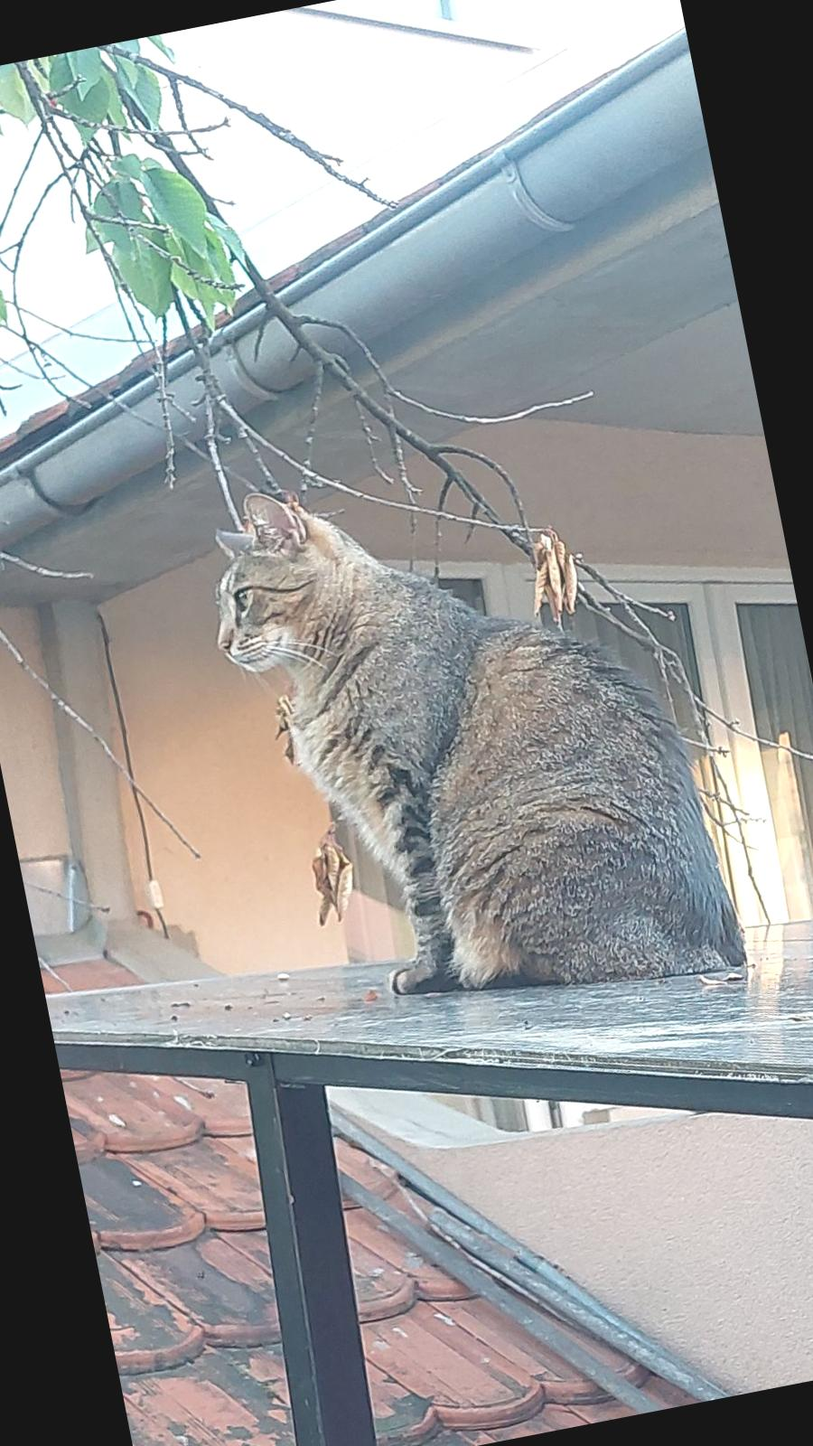macka: (191, 412, 753, 1058)
